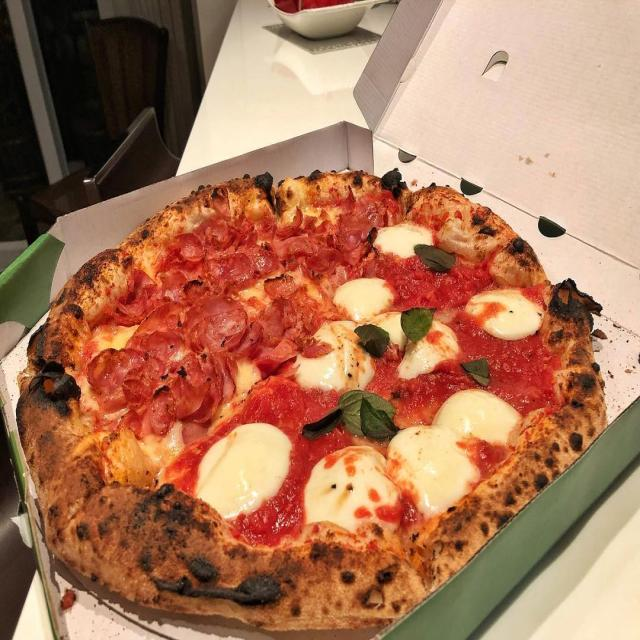basil: (341, 393, 397, 439), (302, 406, 344, 437), (401, 307, 437, 342), (414, 243, 458, 271), (355, 324, 390, 359), (460, 359, 493, 386)
pepperoni: (126, 300, 182, 357), (186, 297, 244, 352), (166, 372, 210, 418), (86, 351, 135, 391), (196, 312, 246, 349), (200, 356, 236, 404), (326, 231, 375, 262), (118, 271, 150, 318), (148, 331, 184, 371), (160, 272, 203, 305), (260, 302, 298, 338), (115, 408, 158, 438), (145, 386, 175, 428), (269, 237, 316, 263), (257, 340, 297, 369), (340, 208, 376, 238), (304, 218, 333, 253), (199, 218, 230, 248), (229, 323, 262, 351), (221, 253, 255, 280), (172, 233, 205, 260), (250, 246, 277, 275), (265, 275, 299, 297), (311, 250, 342, 274), (276, 211, 304, 237), (233, 216, 256, 247), (258, 214, 280, 241)
pizza: (16, 171, 607, 638)
